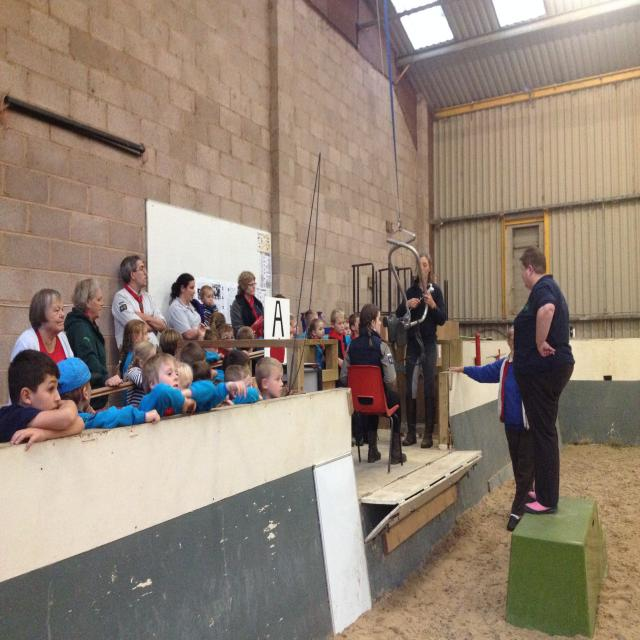body: (444, 324, 536, 532), (511, 245, 578, 518), (338, 300, 409, 467), (392, 252, 448, 448), (0, 347, 85, 451), (62, 276, 124, 415), (158, 310, 235, 415), (56, 356, 161, 429), (9, 286, 76, 368), (111, 255, 167, 352), (137, 352, 218, 418), (345, 312, 370, 447), (168, 272, 211, 340), (230, 270, 264, 351), (123, 341, 157, 408), (273, 294, 320, 339), (322, 307, 348, 388), (121, 319, 150, 383), (224, 364, 264, 405), (306, 318, 327, 392), (254, 356, 284, 399), (199, 284, 219, 330), (236, 326, 254, 355), (343, 316, 352, 337)
